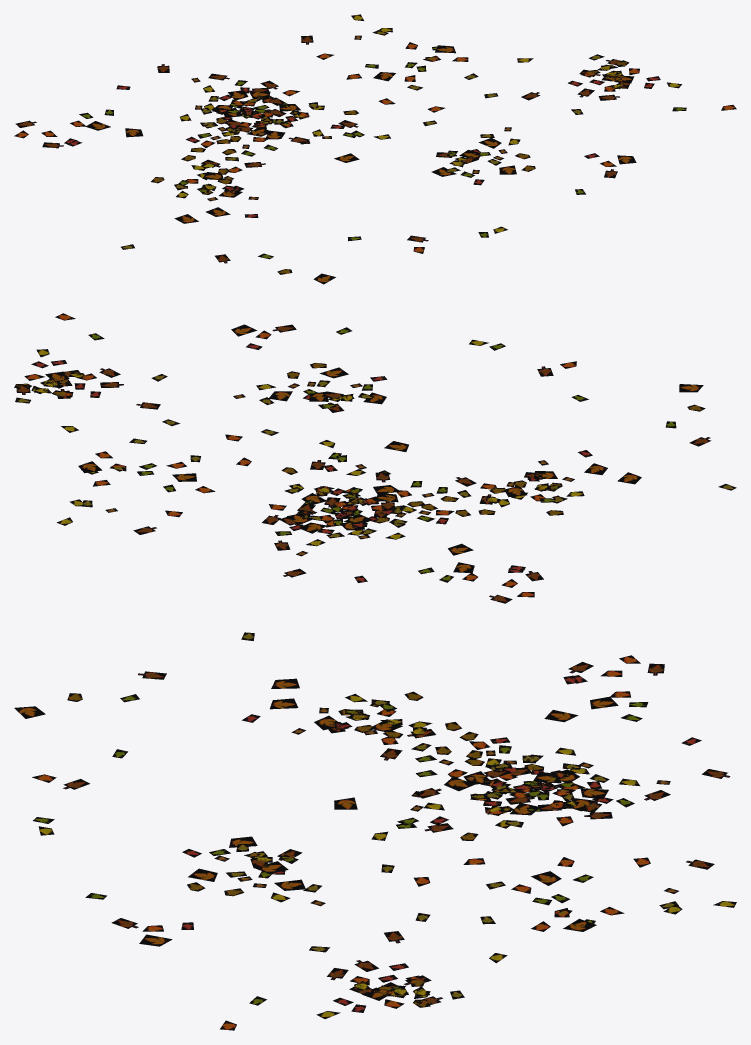
The model's file is leaf_pile_5.fbx.
The picture shows the model from 3 angles, top to bottom: view 1: azimuth 30°, elevation 25°; view 2: azimuth 150°, elevation 25°; view 3: azimuth 270°, elevation 25°; orthographic projection. The views are drawn at different scales.
Parts seen in each view (by area): view 1: leaf_pile_5; view 2: leaf_pile_5; view 3: leaf_pile_5.
Boxes of the visible parts, x1=… form: leaf_pile_5: x1=14, y1=14, x2=736, y2=284; leaf_pile_5: x1=14, y1=313, x2=736, y2=603; leaf_pile_5: x1=14, y1=632, x2=736, y2=1030.
Size of the model in its own units: 107 by 2.1e-06 by 82.24.
